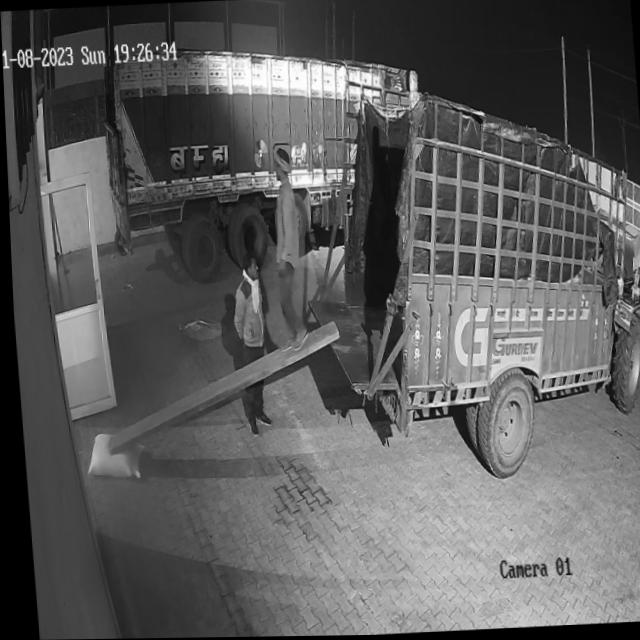sack: (81, 432, 139, 479)
